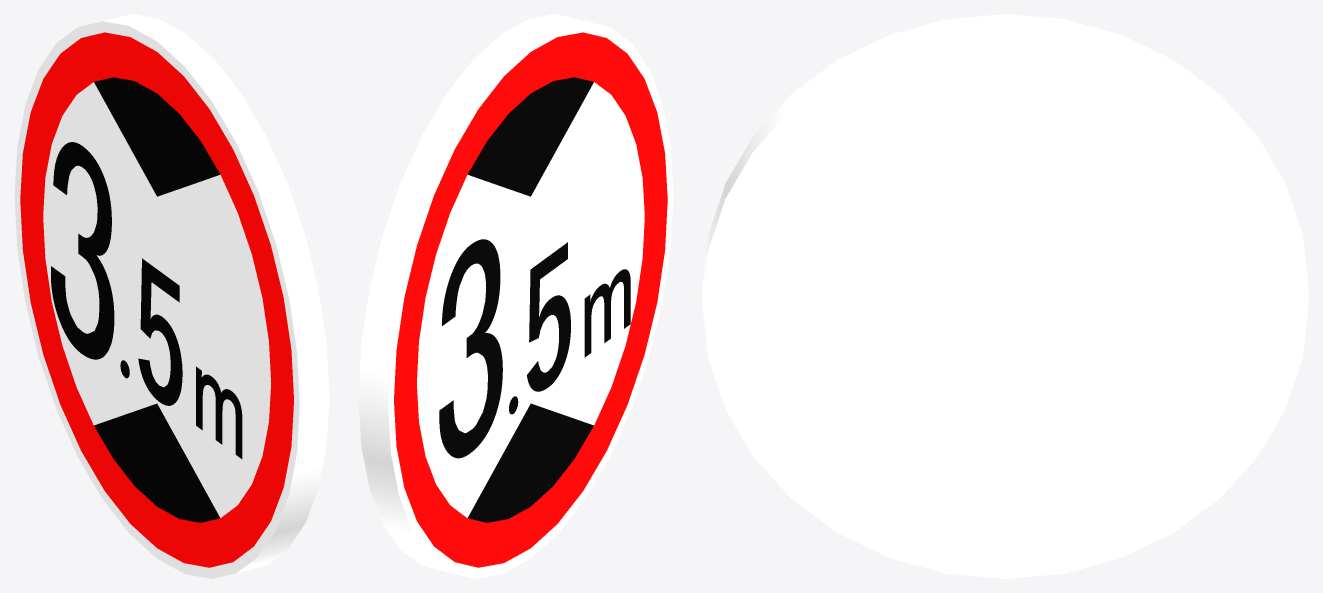
Rendered from Height_Limit_3.5.glb.
3 views of the same model, side by side, from view 1: azimuth 30°, elevation 25°; view 2: azimuth 150°, elevation 25°; view 3: azimuth 270°, elevation 25° (orthographic). The views are drawn at different scales.
Visible parts, largest first — view 1: Height_Limit_3_5; view 2: Height_Limit_3_5; view 3: Height_Limit_3_5.
Part boxes in pixels (left/top/right/bottom): Height_Limit_3_5: left=14, top=14, right=329, bottom=578; Height_Limit_3_5: left=358, top=14, right=673, bottom=578; Height_Limit_3_5: left=702, top=14, right=1308, bottom=578.
Size of the model in its own units: 0.075 by 1 by 1.
